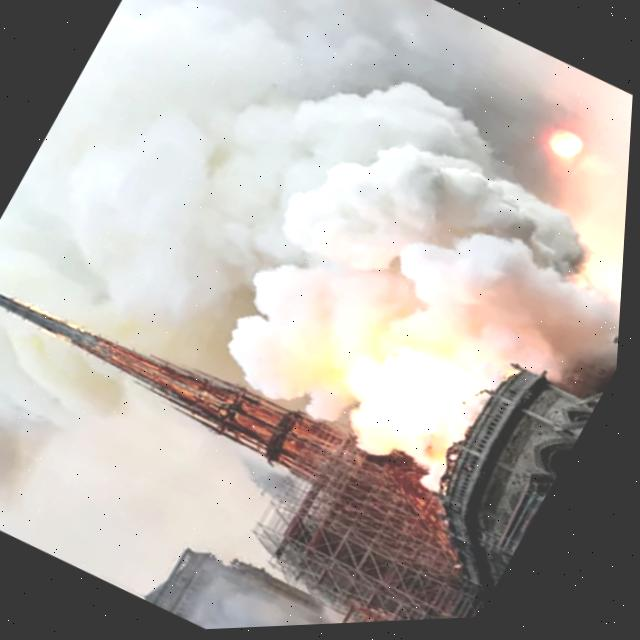Smoke: (108, 15, 638, 556)
